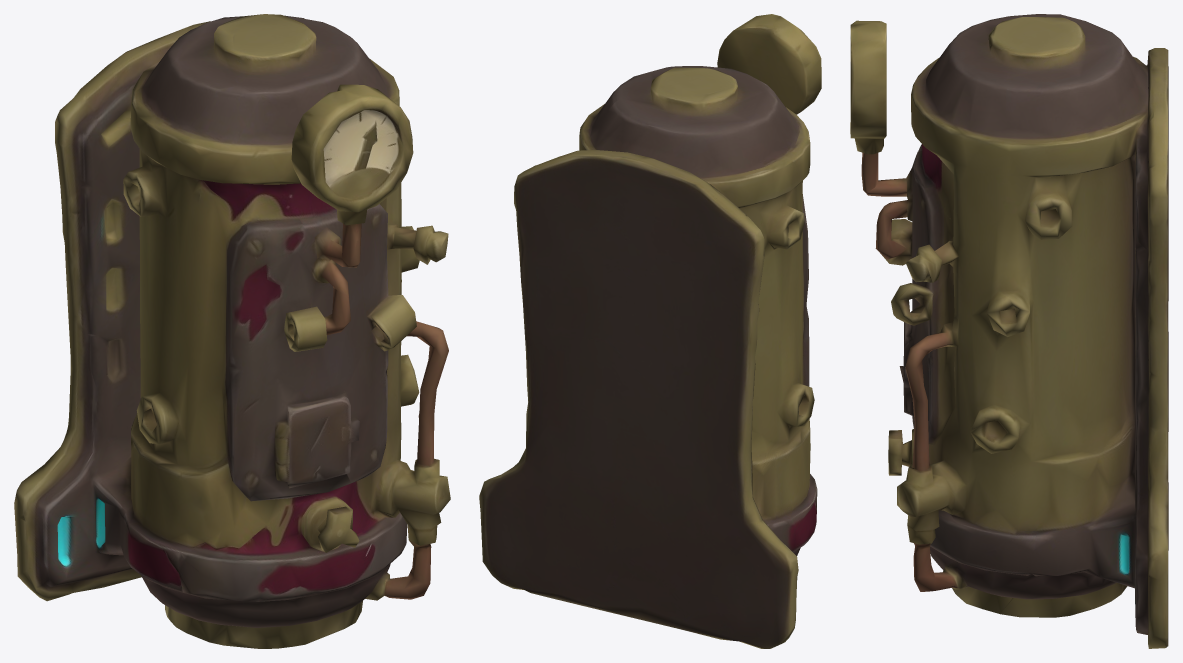
Rendered from lanzallamas_tanque.glb.
The picture shows the model from 3 angles, left to right: view 1: azimuth 30°, elevation 25°; view 2: azimuth 150°, elevation 25°; view 3: azimuth 270°, elevation 25°; orthographic projection. The views are drawn at different scales.
Parts seen in each view (by area): view 1: tripo_node_fac4bc01-e8a7-4b4f-bd88-96a28e7f95b3; view 2: tripo_node_fac4bc01-e8a7-4b4f-bd88-96a28e7f95b3; view 3: tripo_node_fac4bc01-e8a7-4b4f-bd88-96a28e7f95b3.
Part boxes in pixels (left/top/right/bottom): tripo_node_fac4bc01-e8a7-4b4f-bd88-96a28e7f95b3: left=14, top=14, right=450, bottom=648; tripo_node_fac4bc01-e8a7-4b4f-bd88-96a28e7f95b3: left=479, top=14, right=821, bottom=648; tripo_node_fac4bc01-e8a7-4b4f-bd88-96a28e7f95b3: left=850, top=14, right=1168, bottom=648.
Bounding box in the file's own units: 0.6534 × 1 × 0.521.
1 material, 1 textured.
